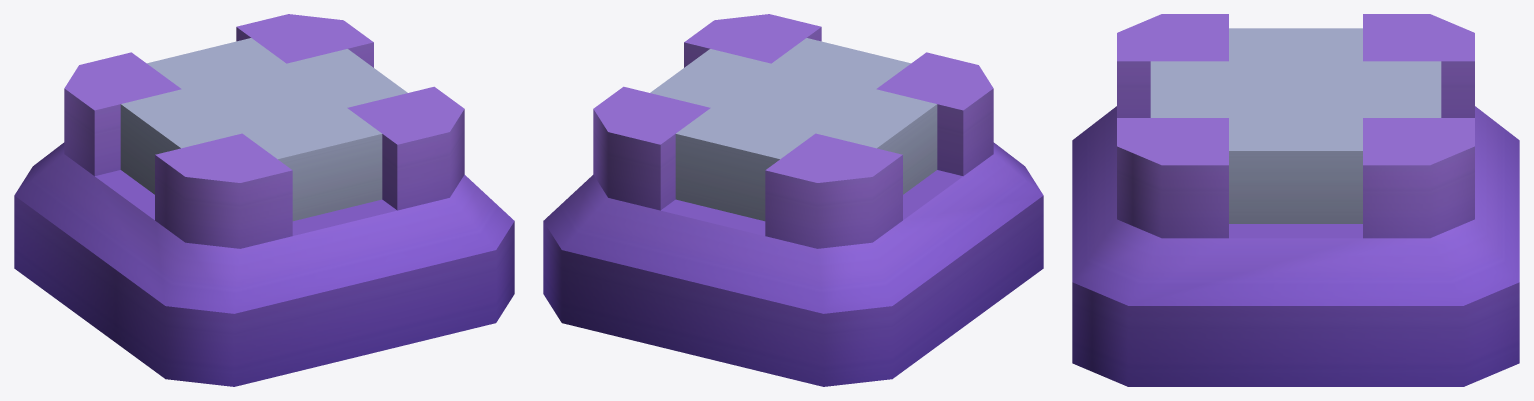
The model's file is kenney-tower-defense-tower-square-bottom-c.glb.
The picture shows the model from 3 angles, left to right: view 1: azimuth 30°, elevation 25°; view 2: azimuth 150°, elevation 25°; view 3: azimuth 270°, elevation 25°; orthographic projection. The views are drawn at different scales.
Parts seen in each view (by area): view 1: tower-square-bottom-c; view 2: tower-square-bottom-c; view 3: tower-square-bottom-c.
Boxes of the visible parts, x1,y1,x2,y2 form: tower-square-bottom-c: (14,14,514,386); tower-square-bottom-c: (543,14,1043,386); tower-square-bottom-c: (1072,14,1519,386).
Size of the model in its own units: 1 by 0.5001 by 1.
Materials: 1 (1 with a texture image).
